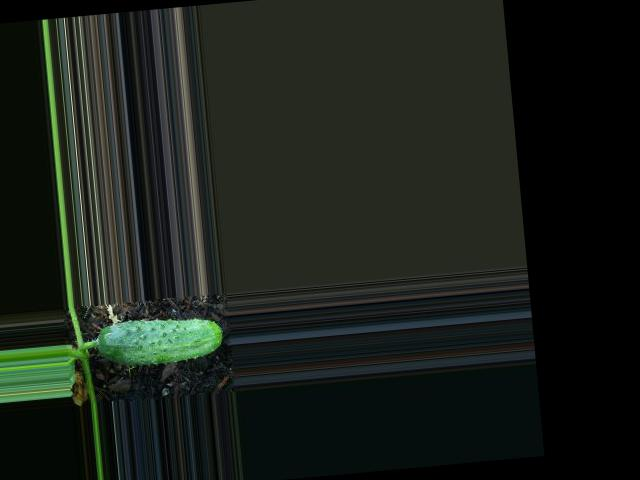cucumber: (96, 312, 225, 369)
